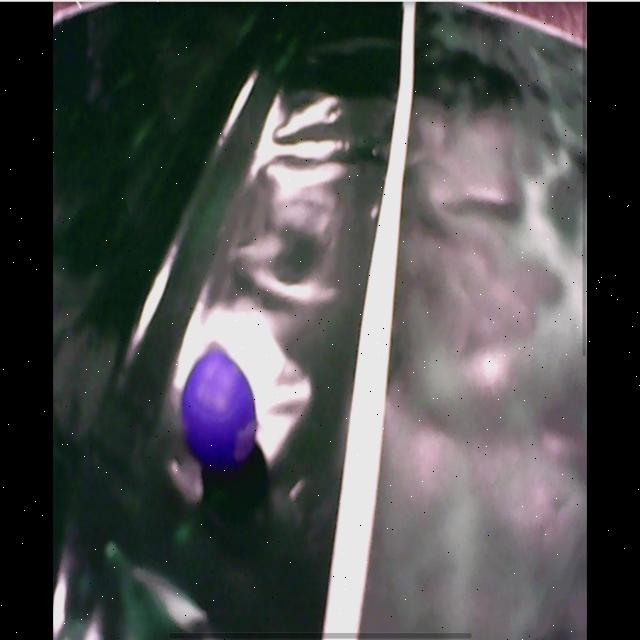ball: (183, 351, 259, 463)
